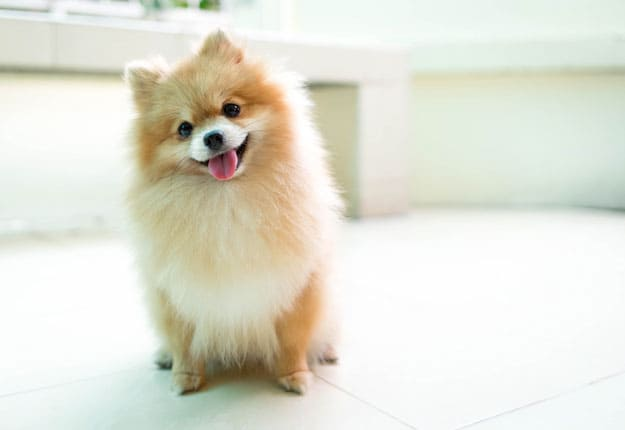pomeranian: (121, 21, 359, 387)
